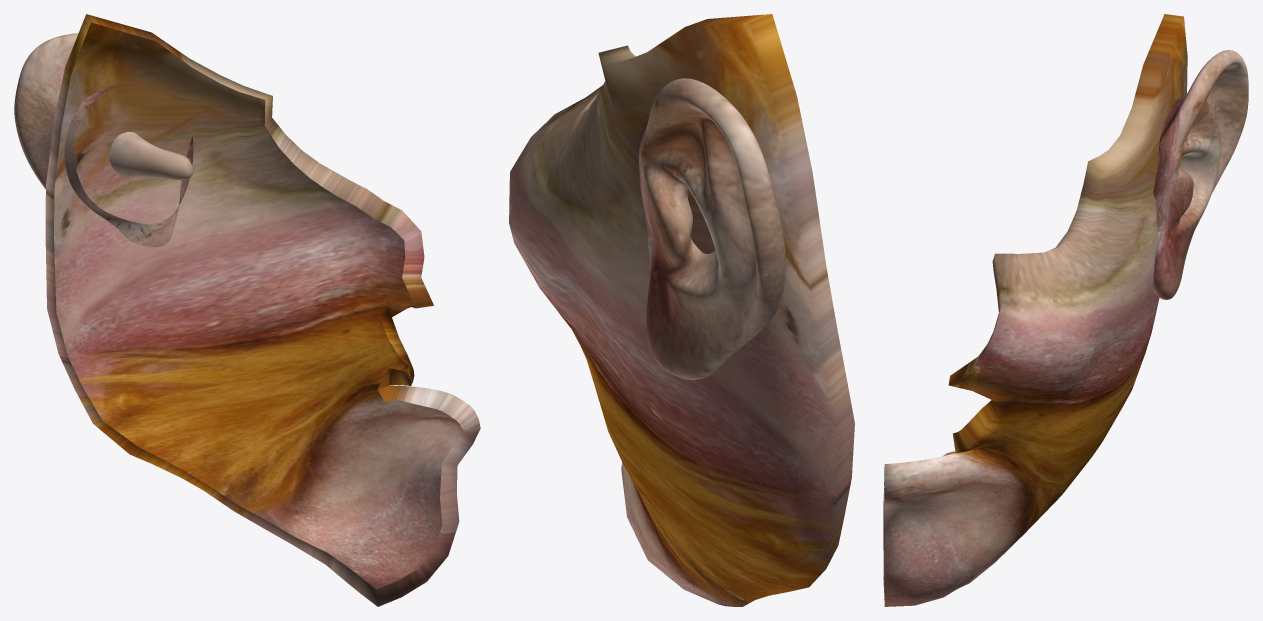
The picture shows the model from 3 angles, left to right: view 1: azimuth 30°, elevation 25°; view 2: azimuth 150°, elevation 25°; view 3: azimuth 270°, elevation 25°; orthographic projection. The views are drawn at different scales.
Parts seen in each view (by area): view 1: 04; view 2: 04; view 3: 04.
Part boxes in pixels (box(x1,y1,x2,y2)): 04: box(14, 14, 480, 606); 04: box(509, 14, 854, 606); 04: box(883, 14, 1248, 606).
Size of the model in its own units: 0.4208 by 0.7081 by 0.4584.
2 materials, 2 textured.
